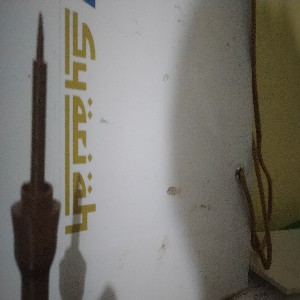solder: (9, 10, 62, 300)
